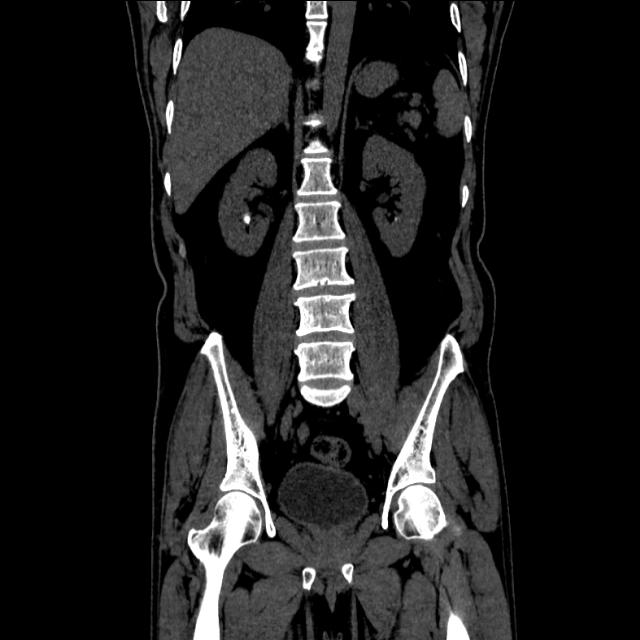kidney: (367, 141, 428, 251), (229, 158, 278, 249)
stone: (245, 216, 249, 223), (395, 218, 397, 221)
